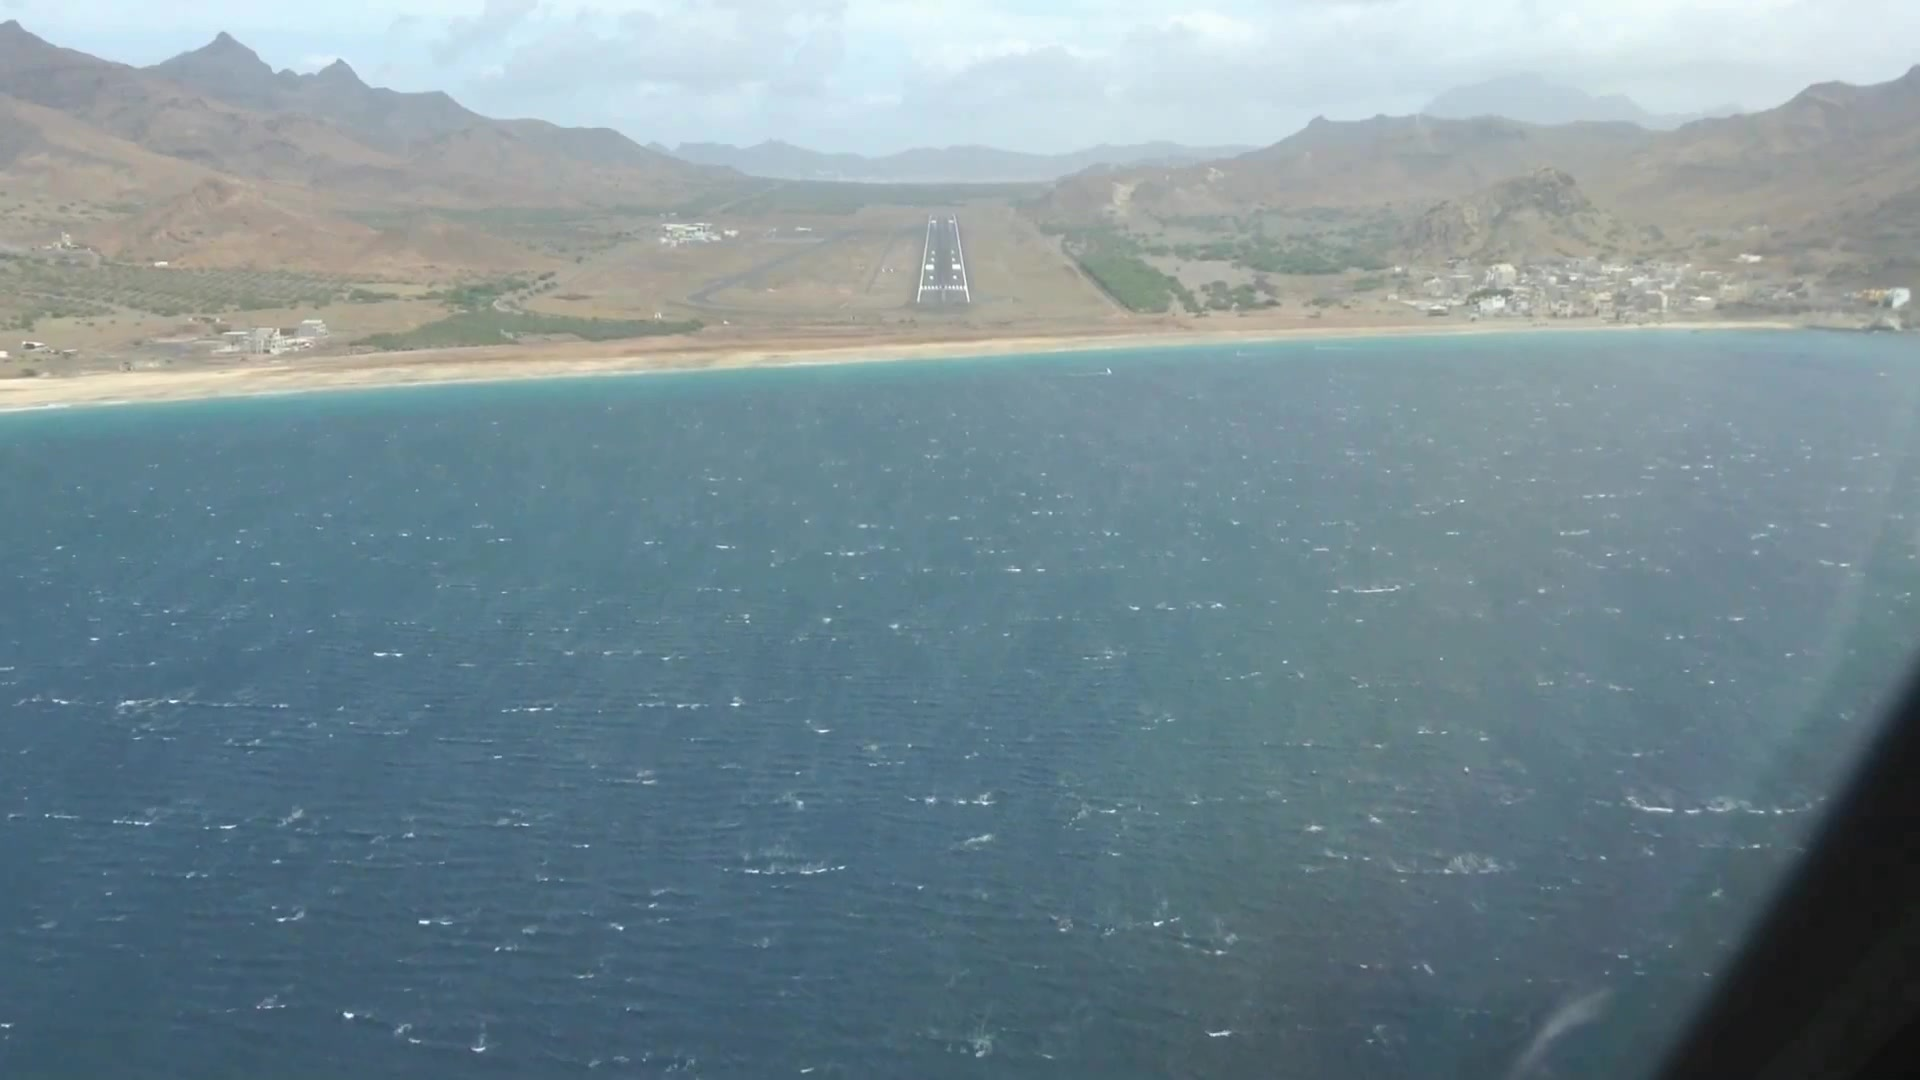entrance: (919, 285, 965, 290)
runway: (915, 214, 969, 302)
